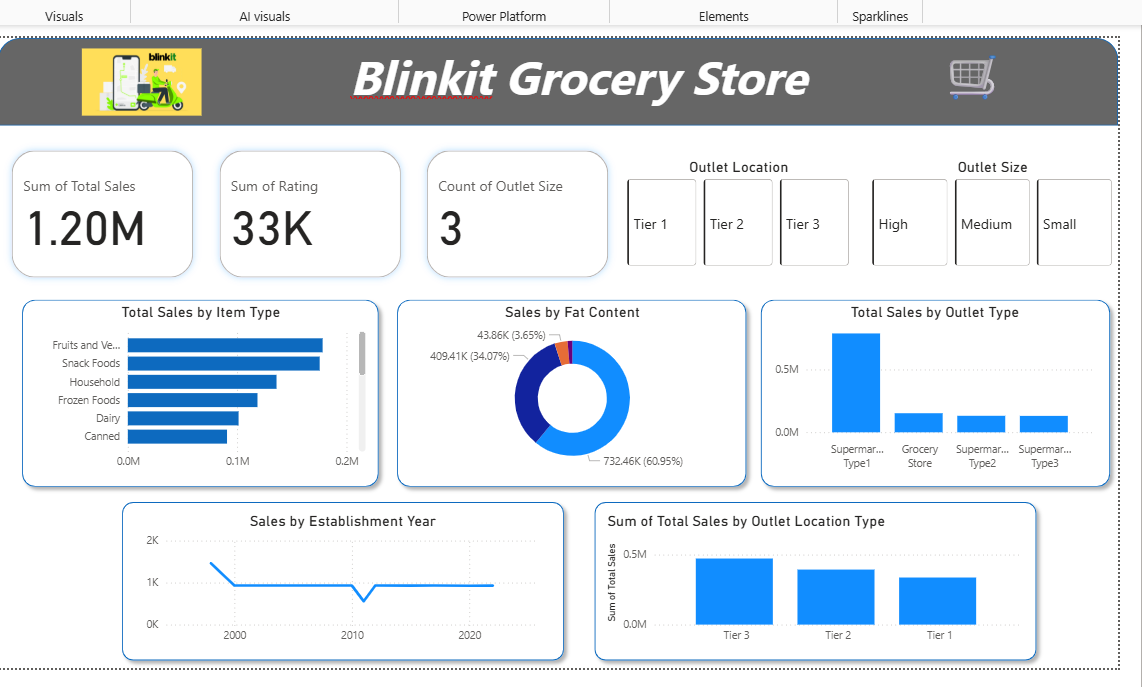

The dashboard page shown, as its layout file describes it:
{"tool":"powerbi","page":{"name":"Page 1","canvas":[1280,720],"ordinal":0},"visuals":[{"type":"shape","box":[0,0,1280.3,100.2],"z":0},{"type":"textbox","box":[378.7,2.7,554.4,101.5],"z":1000},{"type":"cardVisual","title":"njndsnndjndsn","fields":{"Data":["Sum(cleaned_file.Total Sales)","Sum(cleaned_file.Rating)","Count(cleaned_file.Outlet Size)"]},"box":[0,112.5,714.9,177],"z":2000},{"type":"shape","box":[19.2,289.5,425.4,231.9],"z":3000},{"type":"clusteredBarChart","title":"Total Sales by Item Type","fields":{"Y":["Sum(cleaned_file.Total Sales)"],"Category":["cleaned_file.Item Type"]},"box":[38.4,303.3,387,199],"z":4000},{"type":"shape","box":[447.3,289.5,417.2,231.9],"z":5000},{"type":"shape","box":[863.1,289.5,417.2,231.9],"z":6000},{"type":"donutChart","title":"Sales by Fat Content","fields":{"Y":["Sum(cleaned_file.Total Sales)"],"Category":["cleaned_file.Item Fat Content"]},"box":[467.9,303.3,376,199],"z":7000},{"type":"columnChart","title":"Total Sales by Outlet Type","fields":{"Y":["Sum(cleaned_file.Total Sales)"],"Category":["cleaned_file.Outlet Type"]},"box":[882.3,303.3,376,199],"z":8000},{"type":"advancedSlicerVisual","title":"Outlet Location ","fields":{"Values":["cleaned_file.Outlet Location Type"]},"box":[714.9,137.2,264.8,129],"z":9000},{"type":"advancedSlicerVisual","fields":{"Values":["cleaned_file.Outlet Size"]},"box":[994.9,137.2,285.4,129],"z":10000},{"type":"shape","box":[133.1,521.4,522.8,199],"z":11000},{"type":"lineChart","title":"Sales by Establishment Year","fields":{"Category":["cleaned_file.Outlet Establishment Year"],"Y":["CountNonNull(cleaned_file.Outlet Location Type)"]},"box":[164.7,542,459.7,159.2],"z":12000},{"type":"shape","box":[672.4,521.4,522.8,199],"z":13000},{"type":"clusteredColumnChart","fields":{"Category":["cleaned_file.Outlet Location Type"],"Y":["Sum(cleaned_file.Total Sales)"]},"box":[691.6,542,483,159.2],"z":14000},{"type":"image","box":[81,6.9,166,86.4],"z":15000},{"type":"textbox","box":[1071.4,0,142.9,88.6],"z":15001}]}

Visuals, with their boxes in screenshot pixels (x1, y1, x2, y2):
shape: BBox(0, 33, 1112, 121)
textbox: BBox(318, 35, 806, 124)
"njndsnndjndsn" cardVisual: BBox(0, 132, 614, 287)
shape: BBox(2, 287, 376, 491)
"Total Sales by Item Type" clusteredBarChart: BBox(19, 300, 359, 475)
shape: BBox(379, 287, 746, 491)
shape: BBox(745, 287, 1112, 491)
"Sales by Fat Content" donutChart: BBox(397, 300, 728, 475)
"Total Sales by Outlet Type" columnChart: BBox(761, 300, 1092, 475)
"Outlet Location " advancedSlicerVisual: BBox(614, 153, 847, 267)
advancedSlicerVisual - cleaned_file.Outlet Size: BBox(860, 153, 1112, 267)
shape: BBox(102, 491, 562, 667)
"Sales by Establishment Year" lineChart: BBox(130, 510, 535, 650)
shape: BBox(577, 491, 1037, 667)
clusteredColumnChart - cleaned_file.Outlet Location Type x Sum(cleaned_file.Total Sales): BBox(594, 510, 1019, 650)
image: BBox(56, 39, 202, 115)
textbox: BBox(928, 33, 1054, 111)
